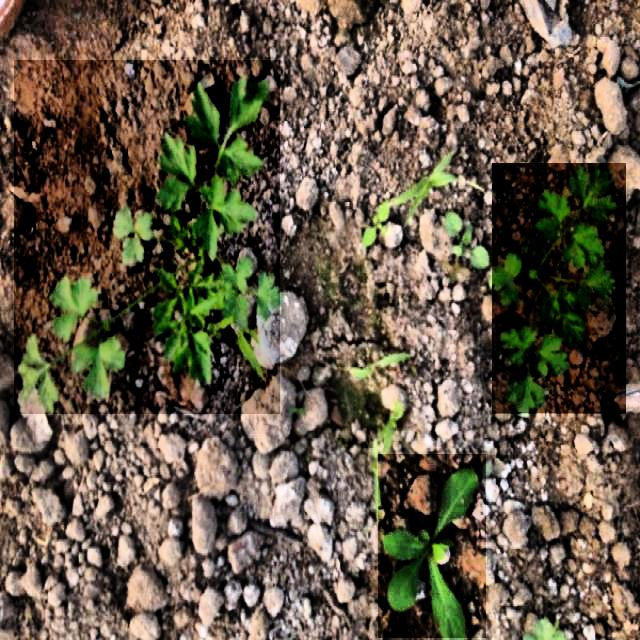Weeds: (378, 454, 486, 638)
undefined: (14, 60, 280, 414), (492, 164, 626, 416)
